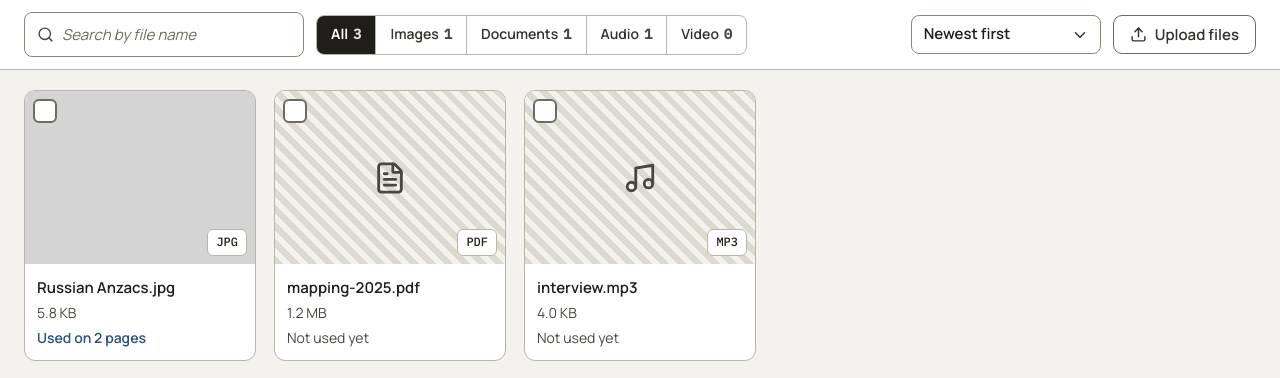
Test: MediaBrowser in manage mode › searches by file name and offers a way out when nothing matches
Expected: the link "Russian Anzacs.jpg" is shown, [37,277,175,298]
In the search field labelled "Search by file name": (180, 35) [62,13,297,56], type "zzz"
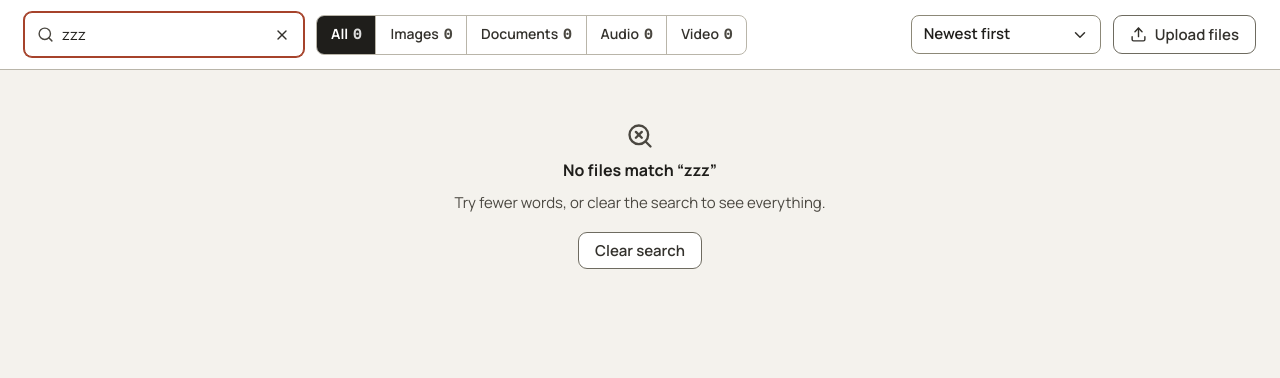
Expected: the heading "No files match “zzz”" is shown, [563,158,717,183]
Click the button "Clear search": click(640, 251) [578,232,702,269]
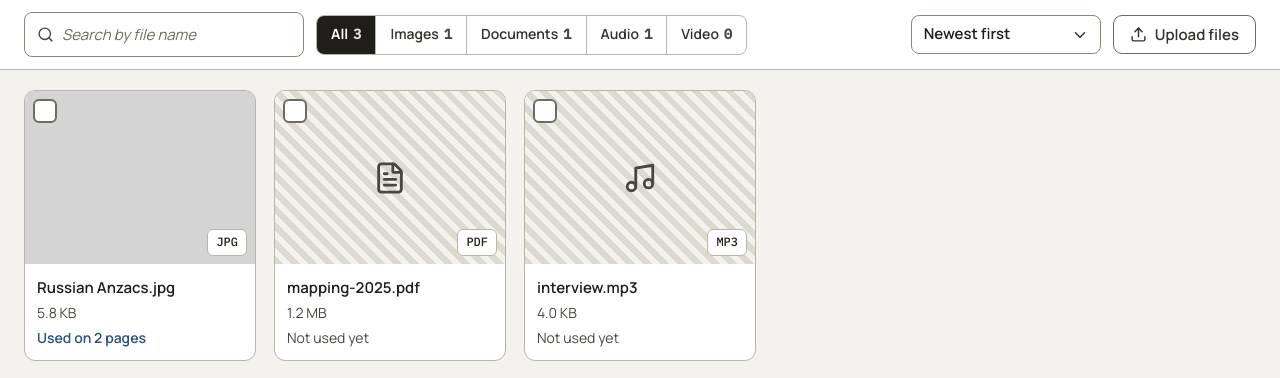
Expected: the link "Russian Anzacs.jpg" is shown, [37,277,175,298]
